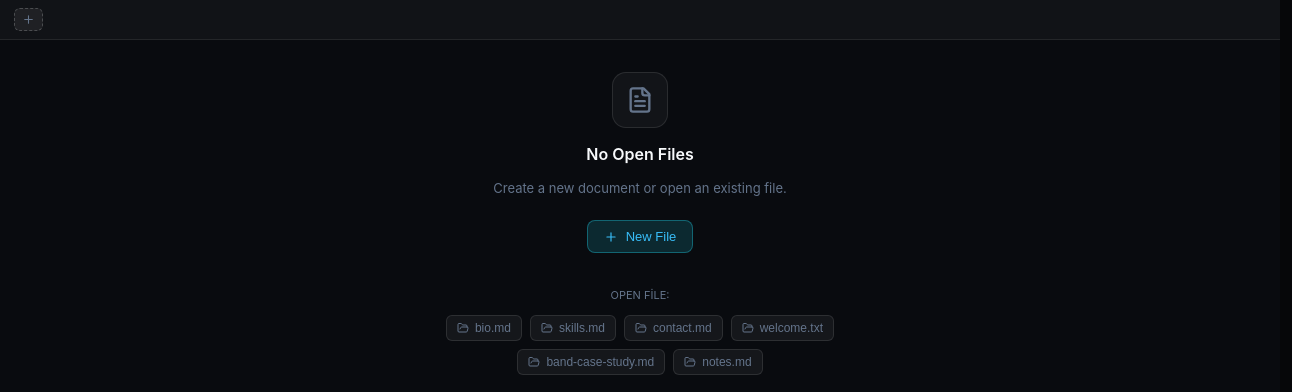
Test: MarkdownViewerApp Component › should create and open a new markdown file via new file modal
Click the button with test id "md-new-file-btn": (28, 20) [14,8,43,31]
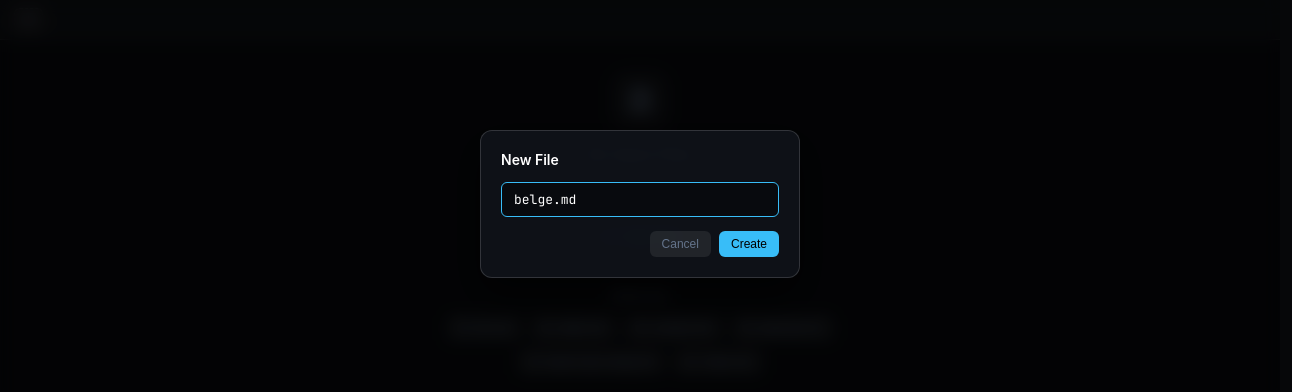
Replace the text in the field with test id "new-file-name-input" with "project-plan.md": (640, 199) [501,182,779,216]
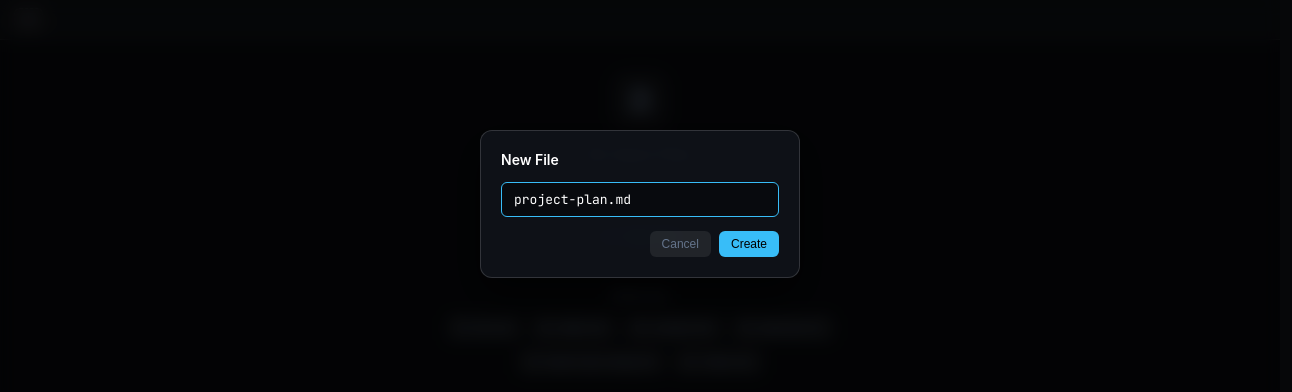
Click the button with test id "new-file-submit-btn": (749, 244) [719,230,779,256]
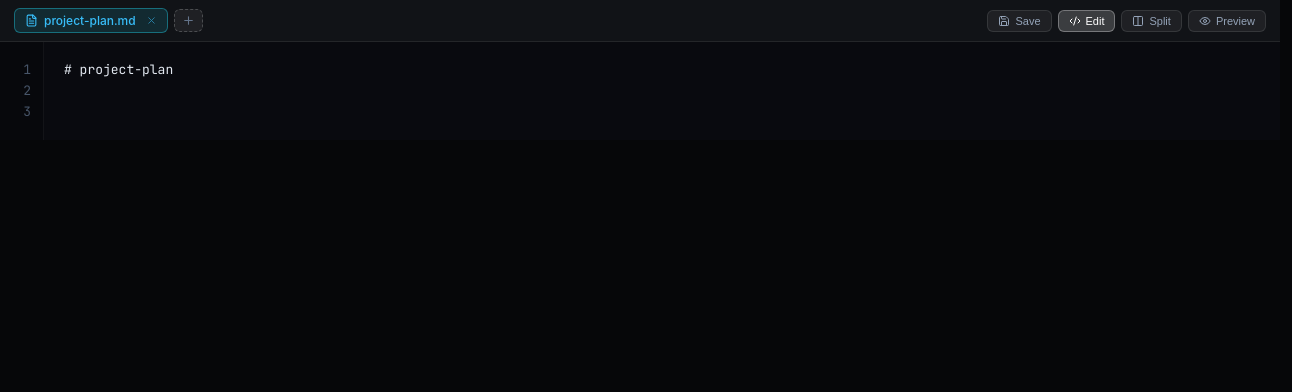
Expected: the tab "project-plan.md" is shown, [14,8,168,33]
